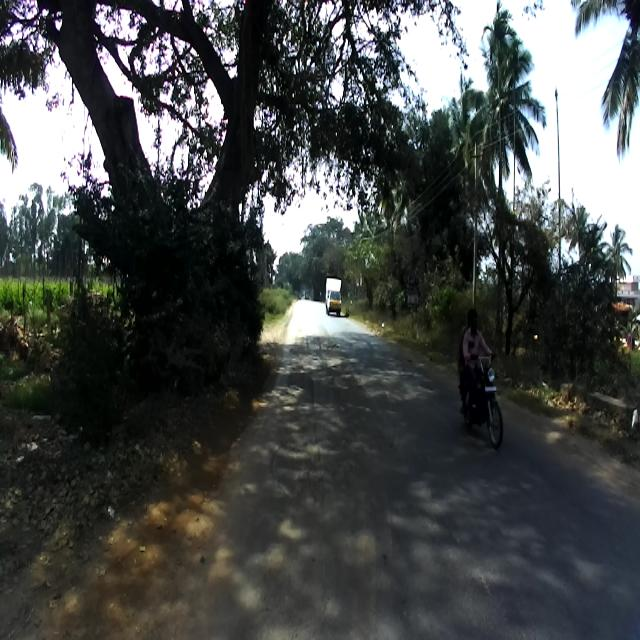motorcycle ahead at: (456, 359, 508, 452)
tree ahead at: (60, 158, 278, 444)
